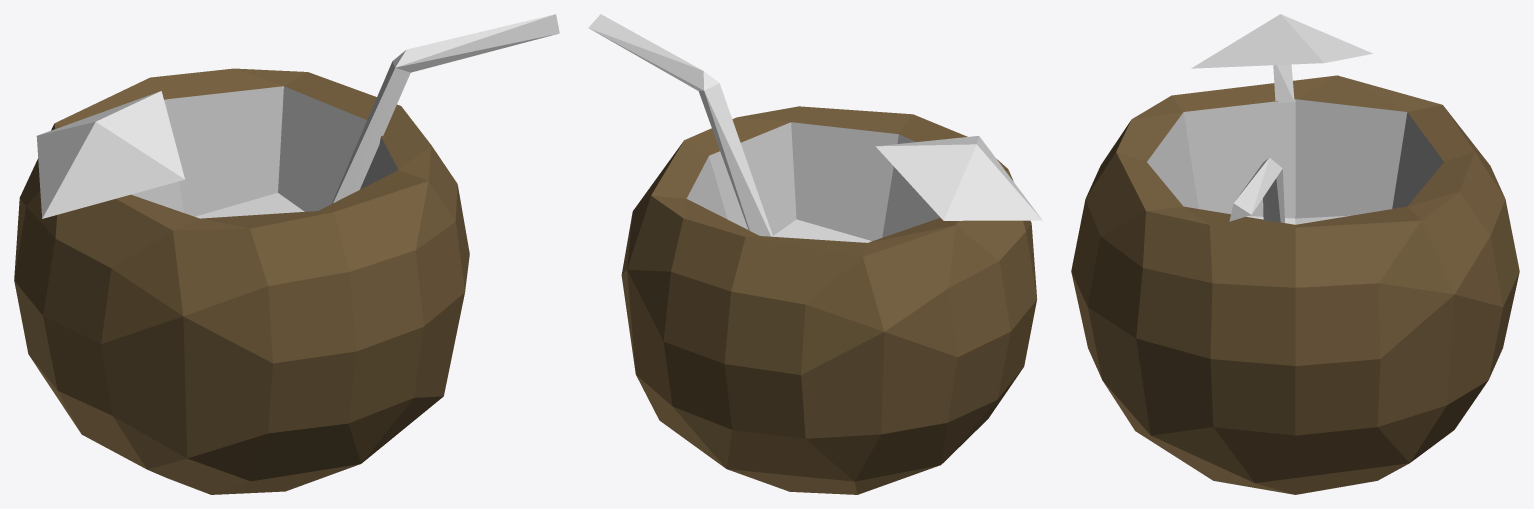
Rendered from coconut.fbx.
3 renders of one model, left to right at view 1: azimuth 30°, elevation 25°; view 2: azimuth 150°, elevation 25°; view 3: azimuth 270°, elevation 25°, orthographic. The views are drawn at different scales.
Visible parts, largest first — view 1: Coconut; view 2: Coconut; view 3: Coconut.
Part boxes in pixels (box(x1,y1,x2,y2)): Coconut: box(14, 14, 559, 494); Coconut: box(588, 14, 1042, 494); Coconut: box(1071, 14, 1519, 494).
Size of the model in its own units: 87.72 by 69.11 by 69.33.
